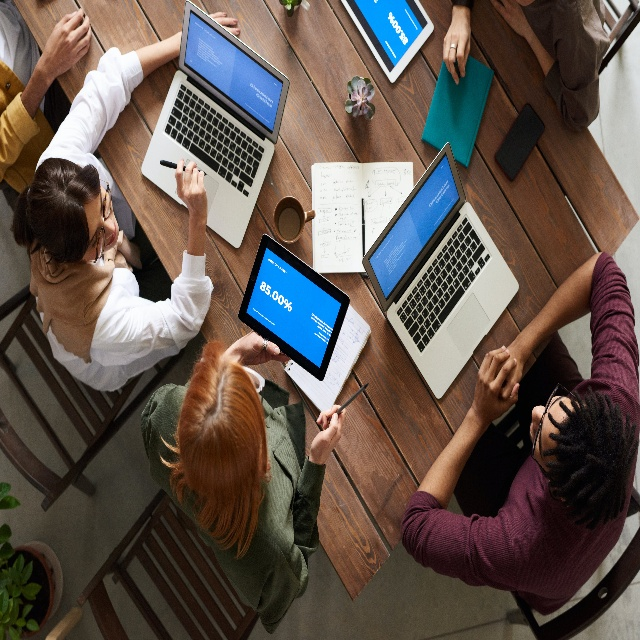Gafas: (530, 380, 575, 485), (82, 175, 112, 264), (242, 365, 265, 406)
Sin_guantes: (42, 6, 92, 82), (474, 345, 519, 425), (175, 157, 208, 230), (309, 403, 346, 465), (442, 14, 471, 86), (240, 329, 291, 366), (494, 345, 524, 401), (491, 0, 532, 39), (209, 11, 240, 37)
